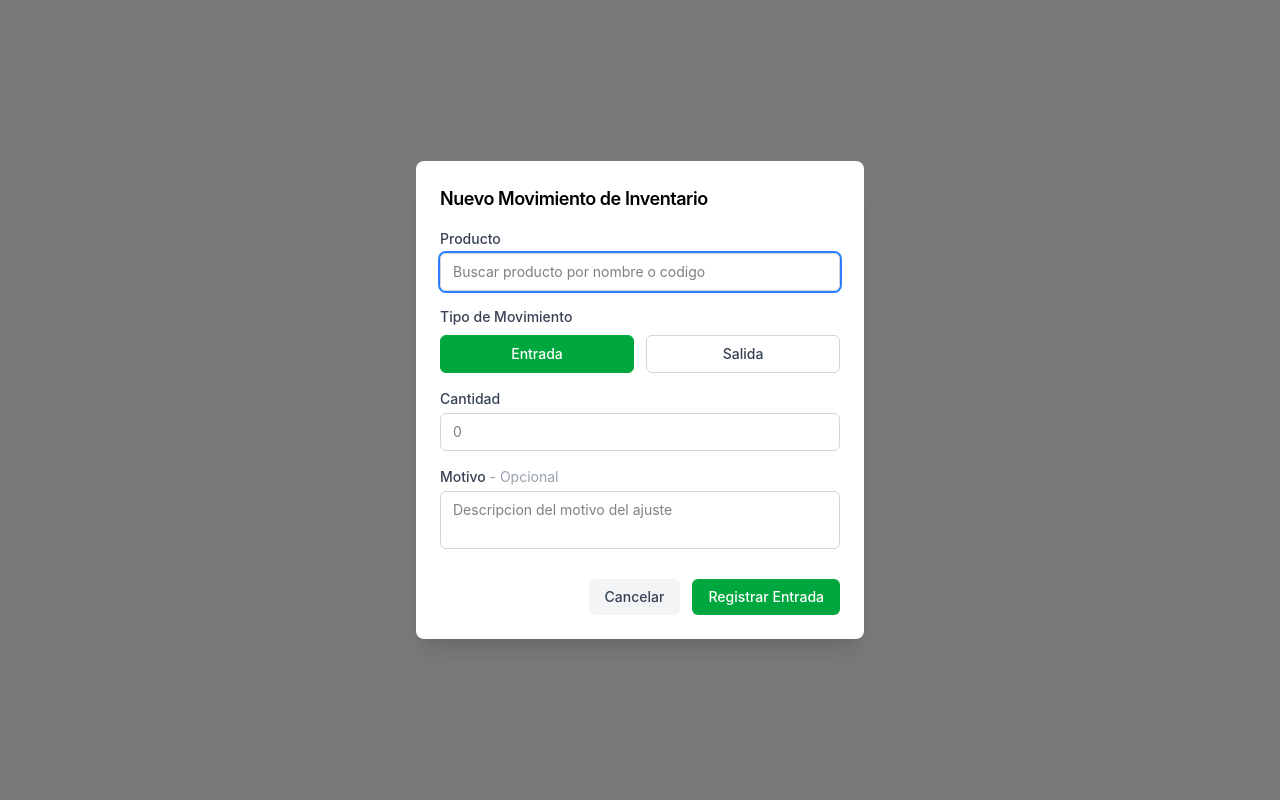
Test: MovimientoForm — deposito sugerido en ingreso manual (Slice 1c, KDS/Deposito Sugerido en Ingreso Manual) › producto SIN deposito default: el selector cae al deposito principal de la empresa
The width and height of the screenshot is (1280, 800).
Type "Producto Sin" into the field labelled "Producto" at x=640, y=272, box [440, 253, 840, 291]
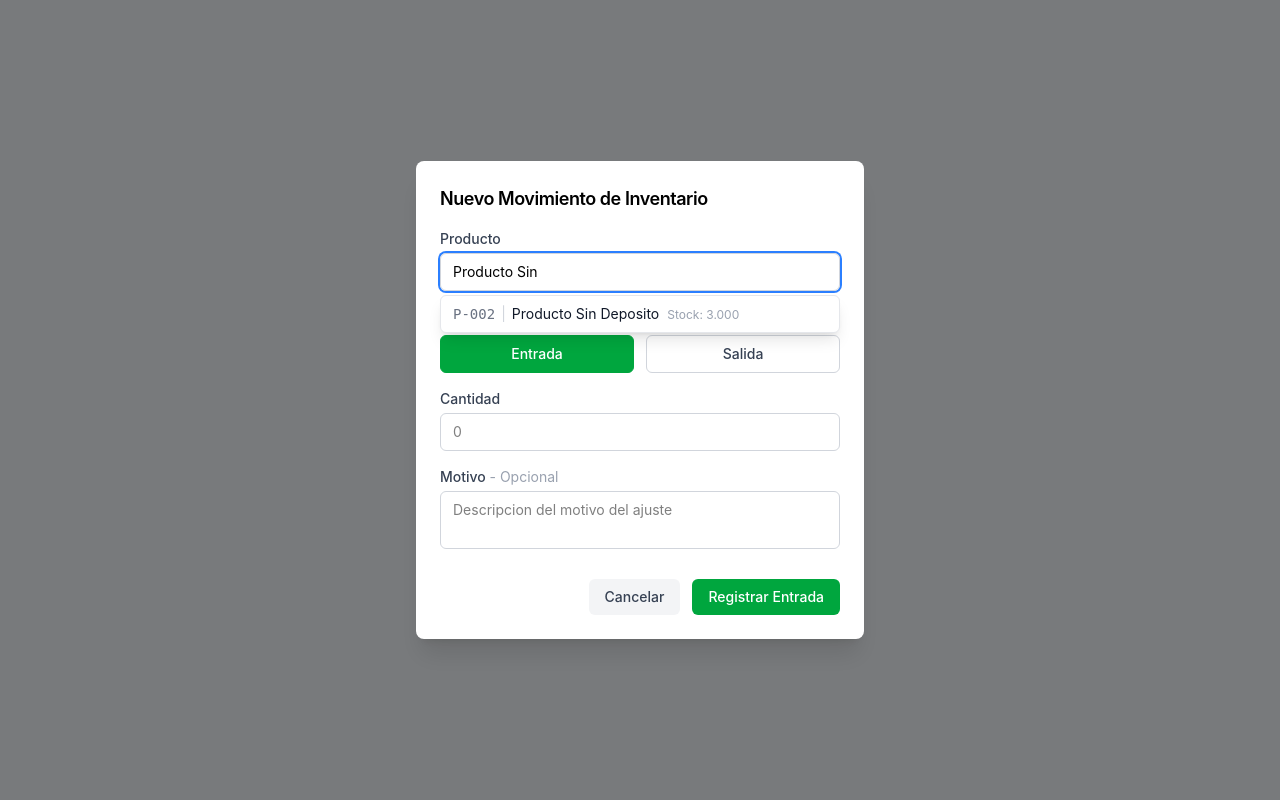
Click the text "Producto Sin Deposito" at x=586, y=314, box [512, 305, 659, 322]
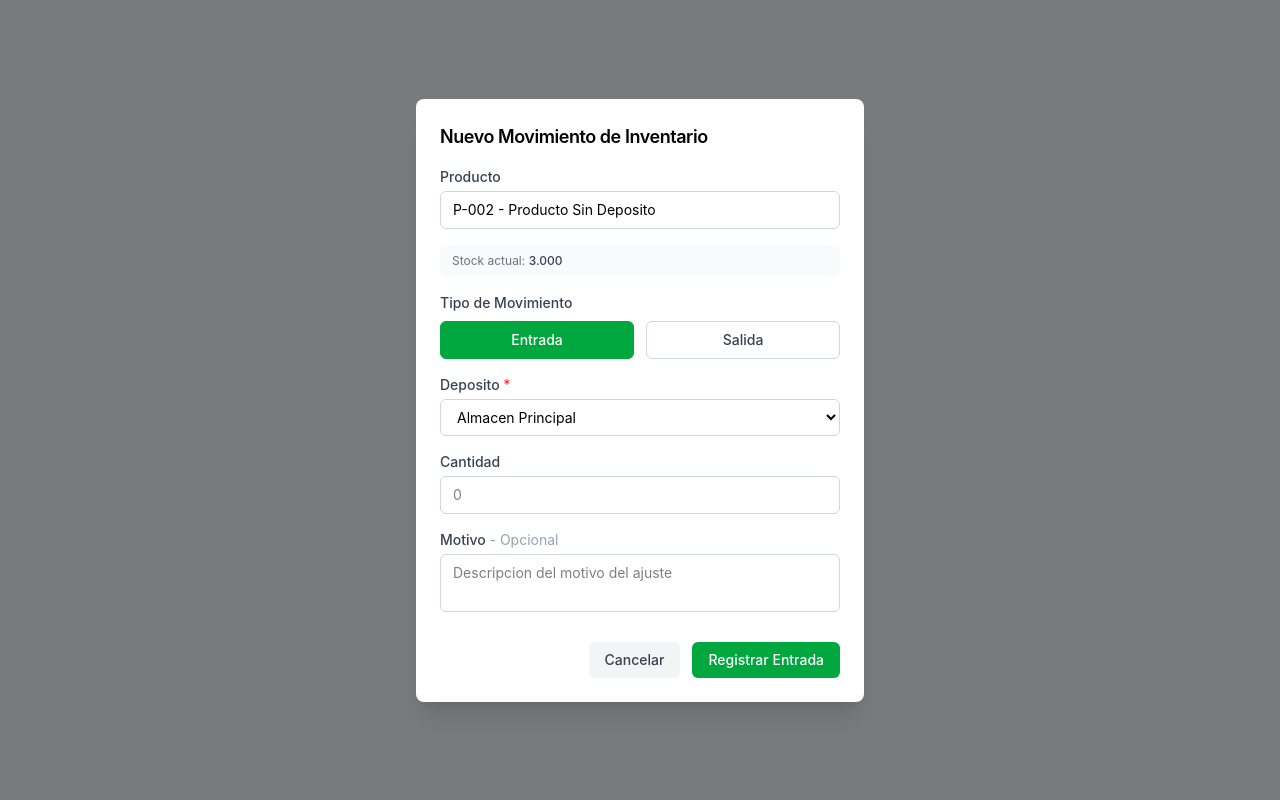
Result: the dropdown labelled "Deposito *" shows "Almacen Principal" at [440, 398, 840, 436]
